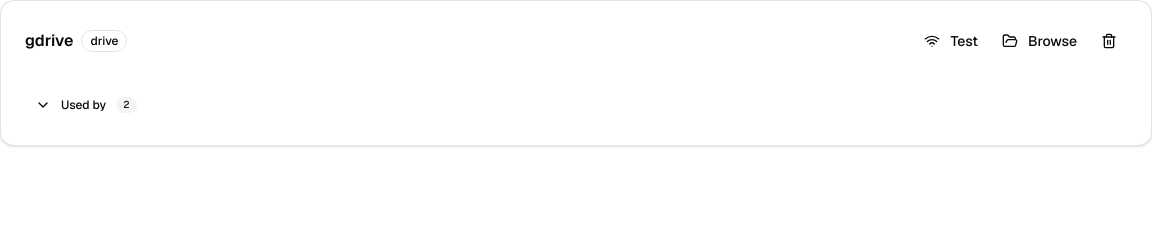
Scenario: RemoteCard › lists what uses the remote when expanded
Click the button "Used by 2" at {"x": 86, "y": 105}, box [25,89,146,121]
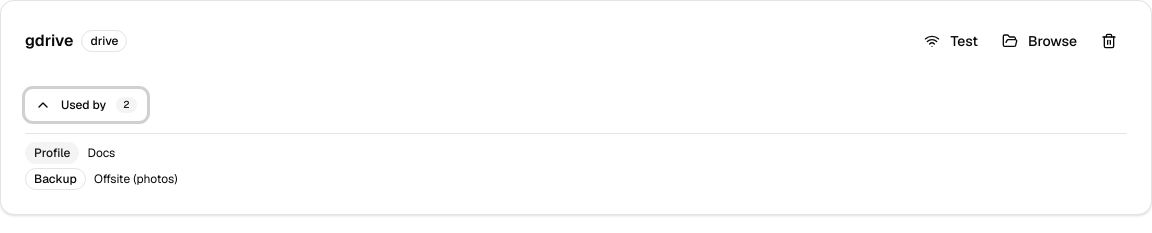
Check: the button "Used by 2" is expanded
Check: the text "Docs" is shown, box [87,145,115,161]
Check: the text "Offsite (photos)" is shown, box [94,171,178,187]
Click the button "Used by 2" at {"x": 86, "y": 105}, box [25,89,146,121]
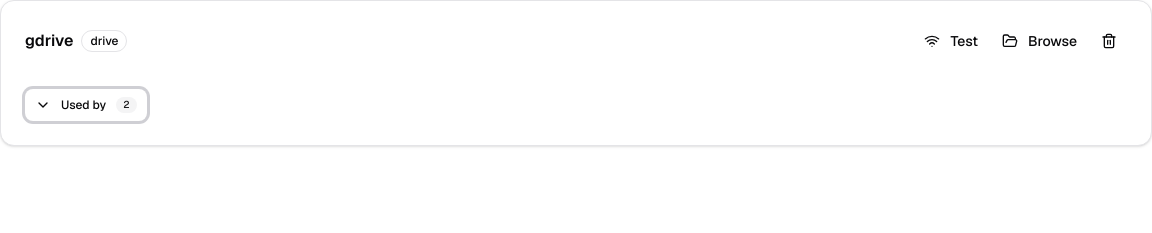
Check: the text "Docs" is gone
